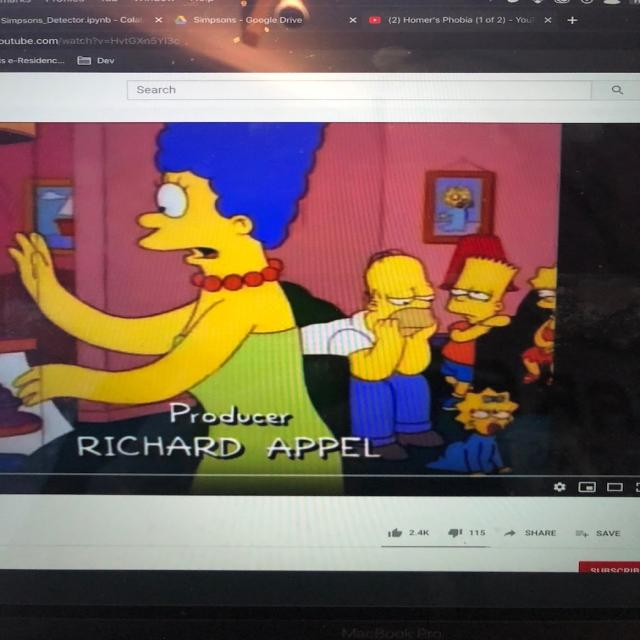Bart Simpson: (445, 255, 523, 329)
Homer Simpson: (358, 245, 443, 345)
Maggie Simpson: (452, 384, 522, 438)
Marge Simpson: (130, 123, 332, 296)
